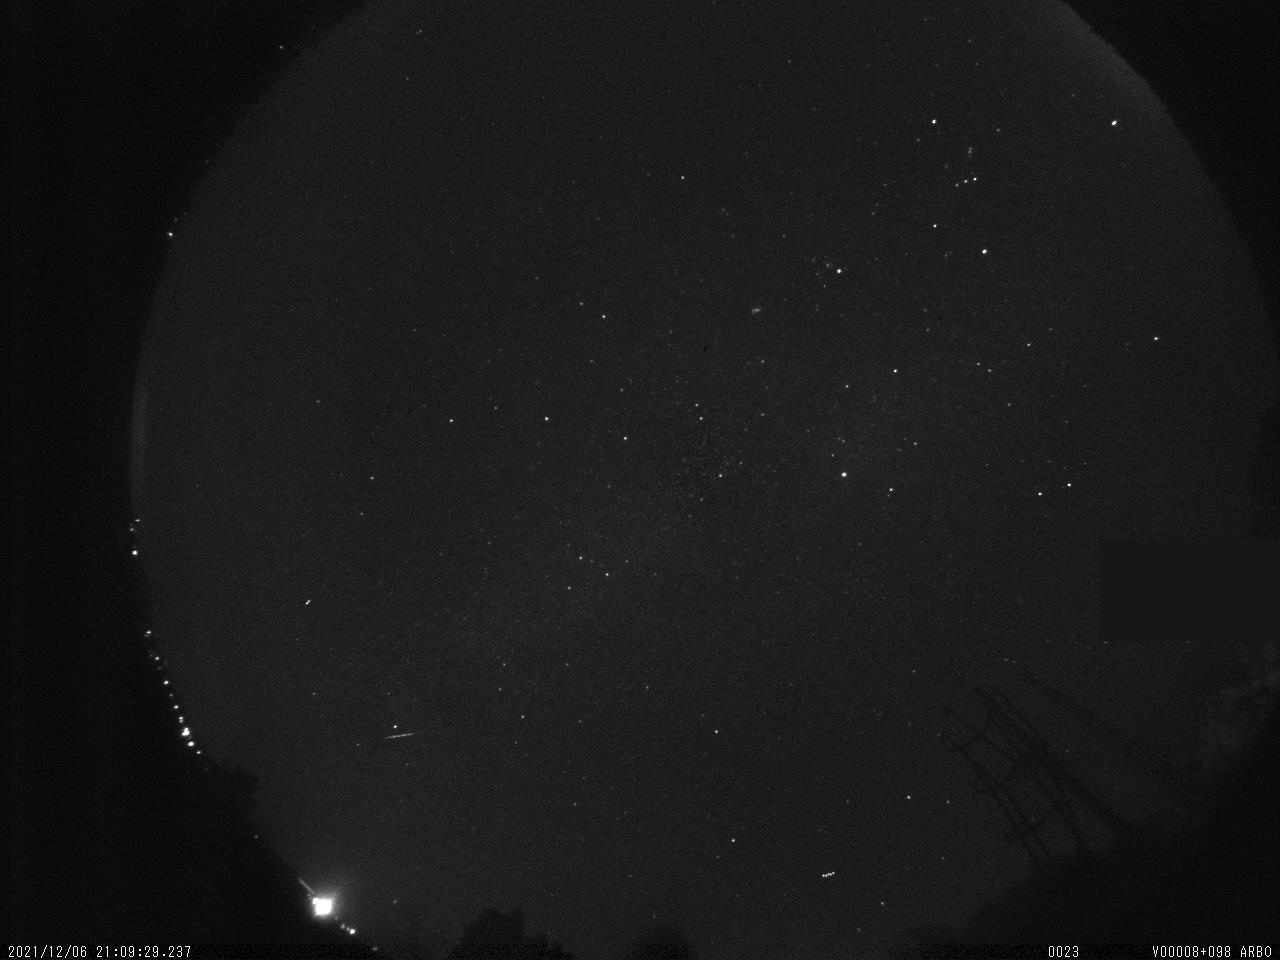meteor: (356, 711, 431, 755)
